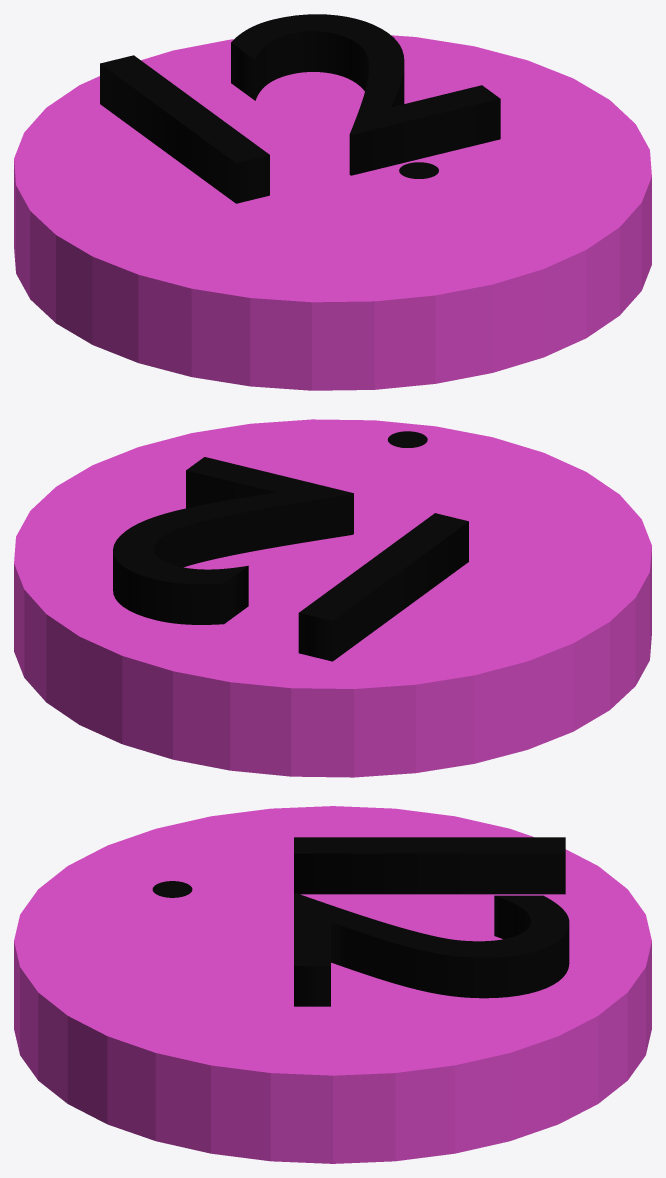
The model's file is twelve.fbx.
The picture shows the model from 3 angles, top to bottom: view 1: azimuth 30°, elevation 25°; view 2: azimuth 150°, elevation 25°; view 3: azimuth 270°, elevation 25°; orthographic projection.
Visible parts, largest first — view 1: Circle, Text.001, Circle.008; view 2: Circle, Text.001, Circle.008; view 3: Circle, Text.001, Circle.008.
Part boxes in pixels (x1=…): Circle: x1=14, y1=35, x2=651, y2=390; Text.001: x1=100, y1=14, x2=500, y2=203; Circle.008: x1=399, y1=162, x2=438, y2=178; Circle: x1=14, y1=419, x2=651, y2=777; Text.001: x1=113, y1=457, x2=468, y2=661; Circle.008: x1=387, y1=431, x2=427, y2=447; Circle: x1=14, y1=806, x2=651, y2=1163; Text.001: x1=294, y1=837, x2=569, y2=1006; Circle.008: x1=152, y1=881, x2=192, y2=897.
Size of the model in its own units: 200 by 49.27 by 200.
